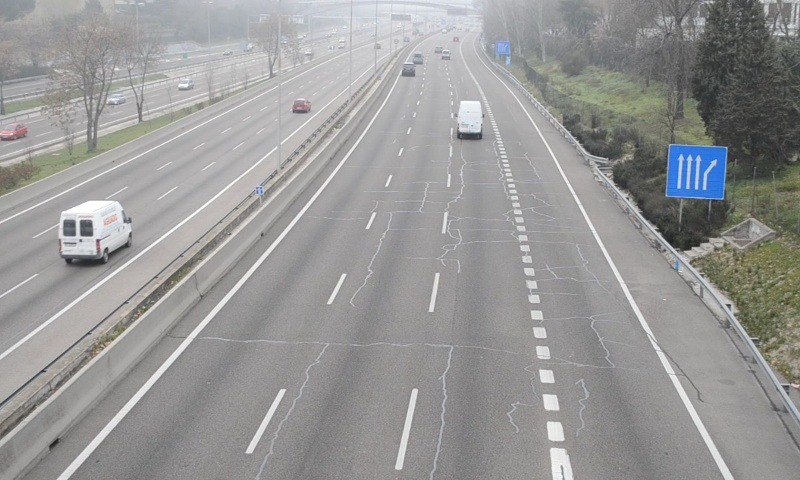van: (455, 100, 483, 139)
